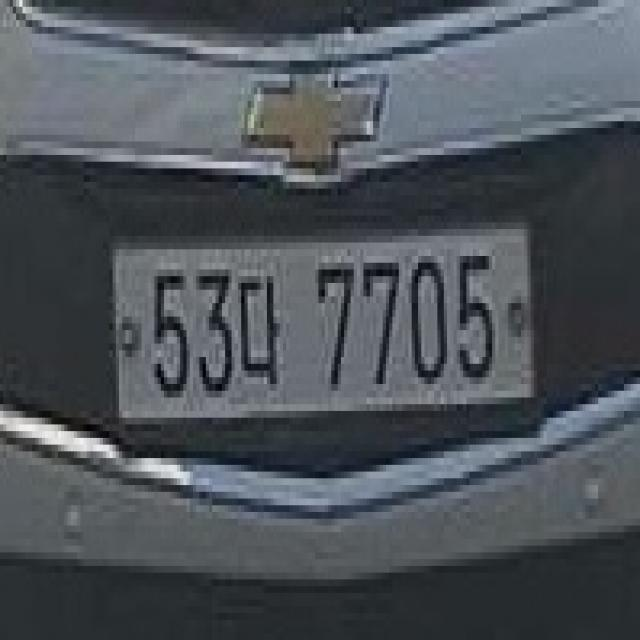0: (405, 256, 450, 397)
3: (190, 262, 238, 418)
5: (450, 236, 502, 377), (151, 263, 193, 397)
7: (309, 256, 363, 404), (357, 250, 402, 398)
da: (235, 256, 289, 384)
license_plate: (96, 216, 544, 424)
